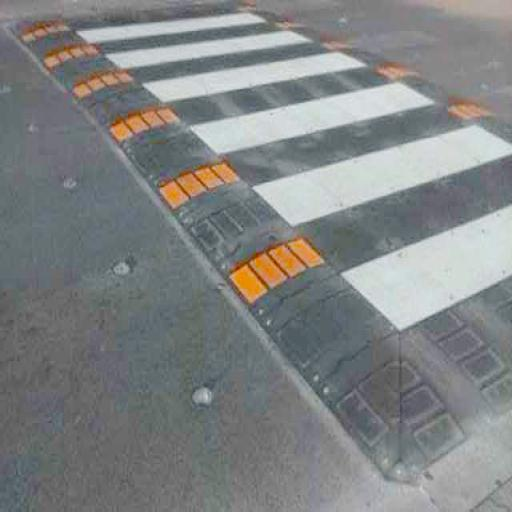crosswalk: (184, 58, 512, 232)
